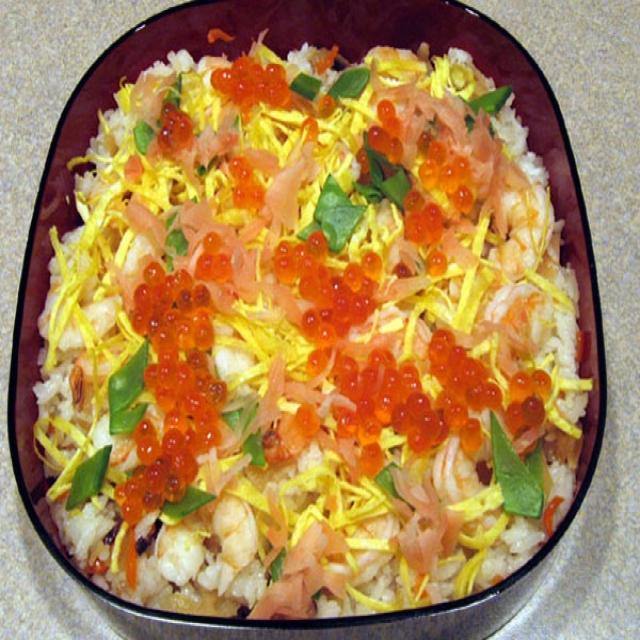寿司卷物: (1, 0, 613, 629)
